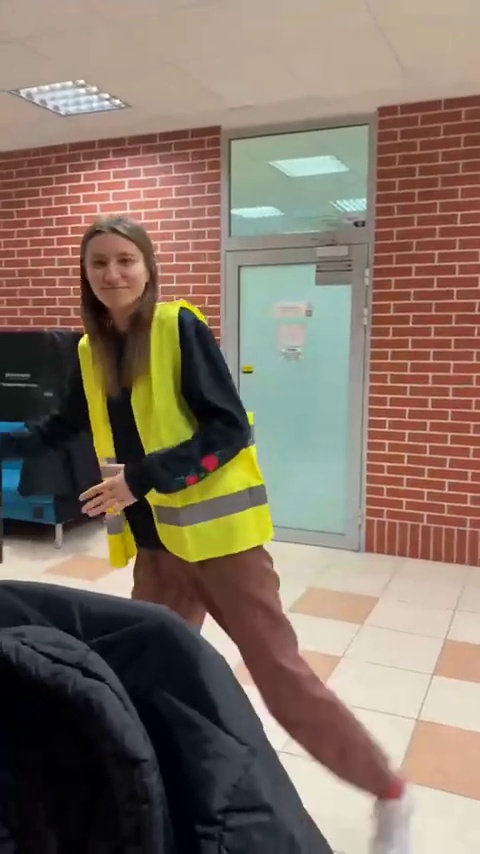vest: (50, 207, 383, 810)
